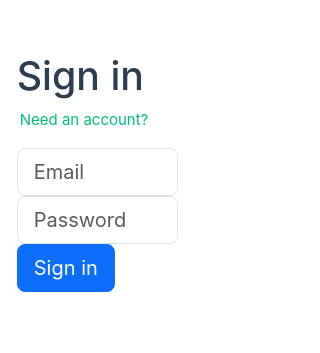
Test case: LoginPage › submitting invalid credentials › shows the API error messages
Type "jane@example.com" into the field with placeholder "Email" at (98, 172), box x1=17 y1=148 x2=178 y2=196
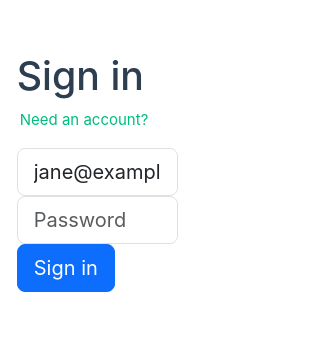
Type "secret" into the password field with placeholder "Password" at (98, 220), box x1=17 y1=196 x2=178 y2=244
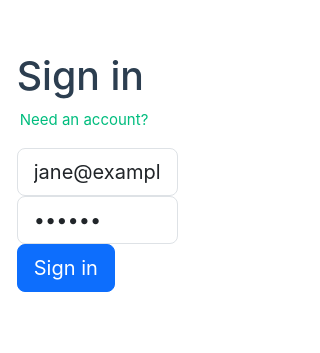
Submit the form, box x1=17 y1=148 x2=178 y2=292
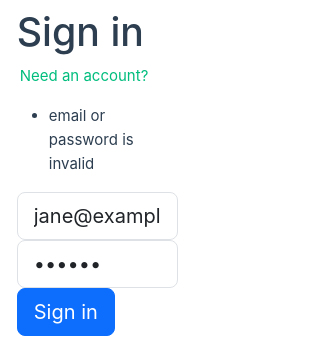
Expected: the list item "email or password is invalid" is shown, x1=49 y1=106 x2=134 y2=173
